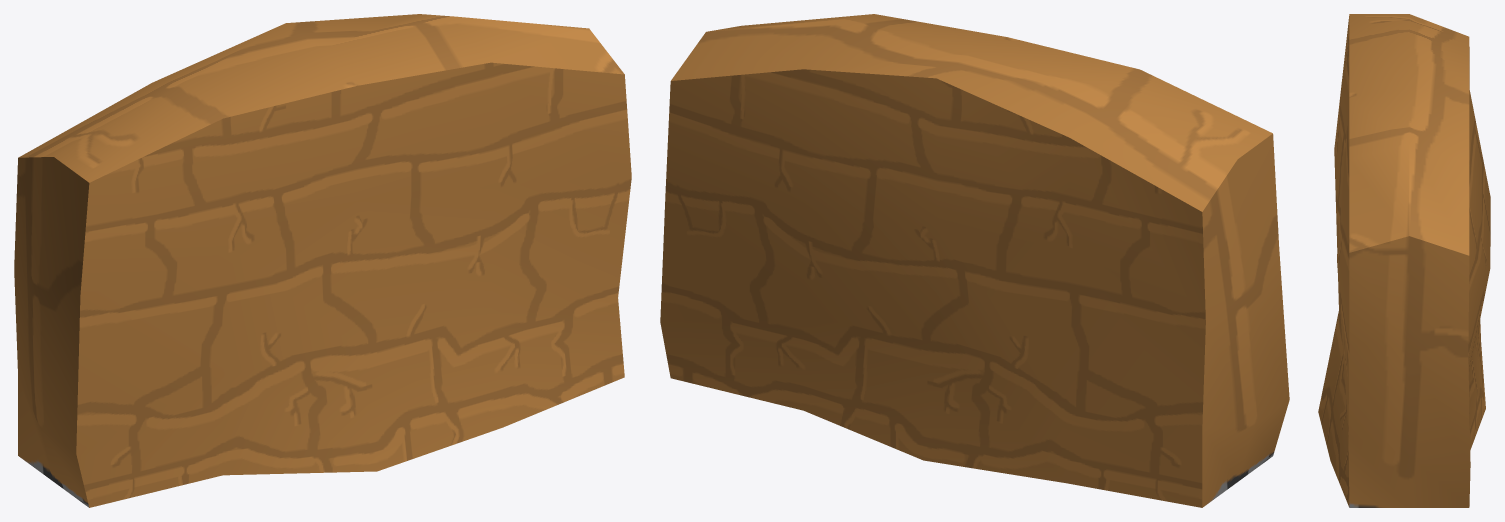
The model's file is Wall1.fbx.
The picture shows the model from 3 angles, left to right: view 1: azimuth 30°, elevation 25°; view 2: azimuth 150°, elevation 25°; view 3: azimuth 270°, elevation 25°; orthographic projection. The views are drawn at different scales.
Parts seen in each view (by area): view 1: Wall1; view 2: Wall1; view 3: Wall1.
Boxes of the visible parts, box(x1,y1,x2,y2) form: Wall1: box(14, 14, 631, 507); Wall1: box(660, 14, 1289, 507); Wall1: box(1318, 14, 1490, 507).
Bounding box in the file's own units: 6.81 × 4.43 × 2.14.
